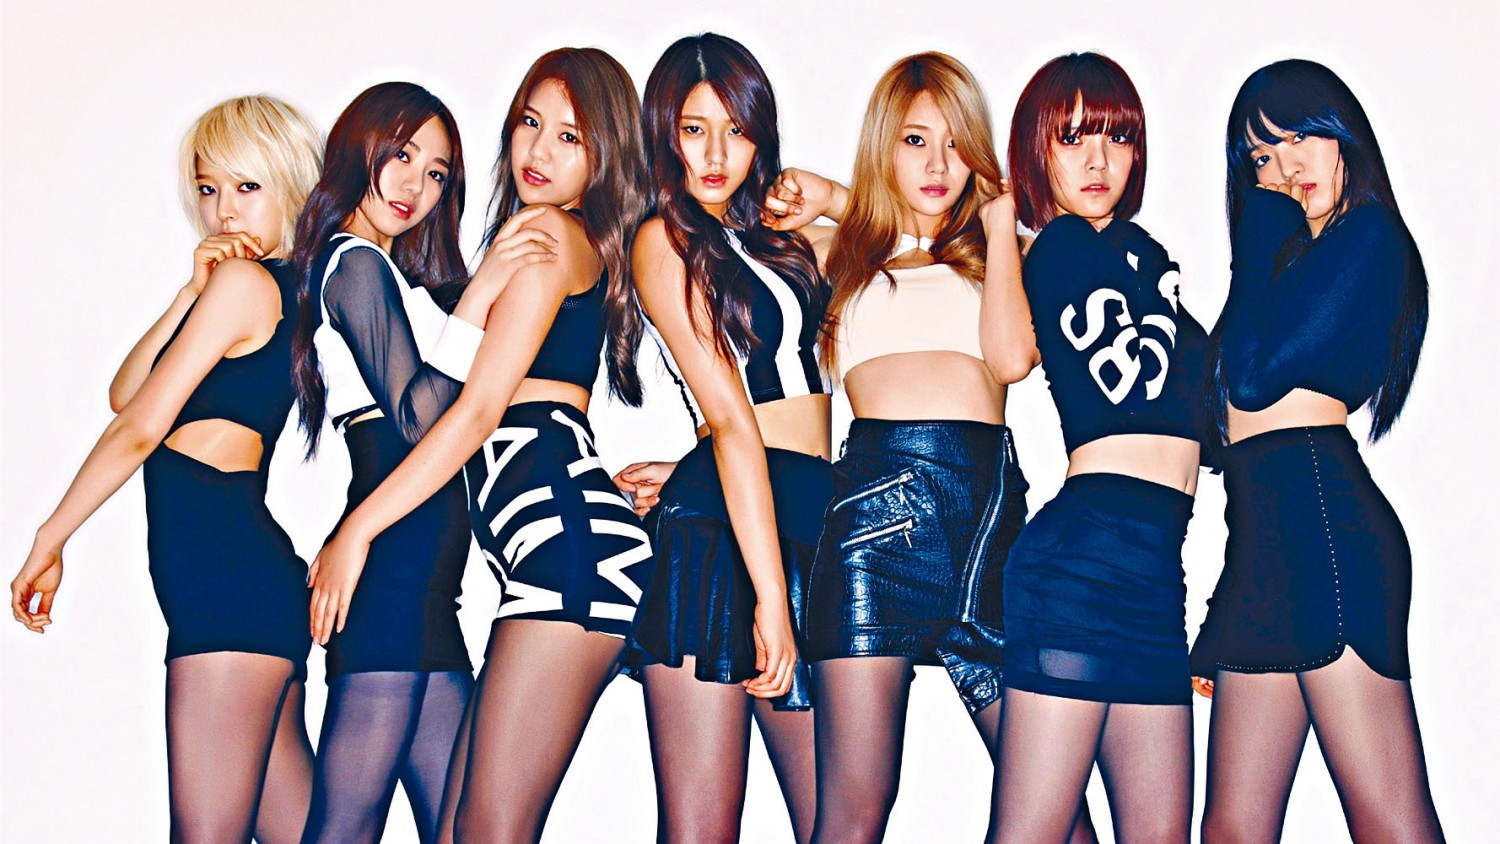people: (1214, 59, 1425, 844), (646, 31, 838, 844), (1012, 50, 1204, 844), (110, 91, 310, 844), (838, 42, 1012, 840), (472, 46, 644, 842), (304, 82, 470, 844)
